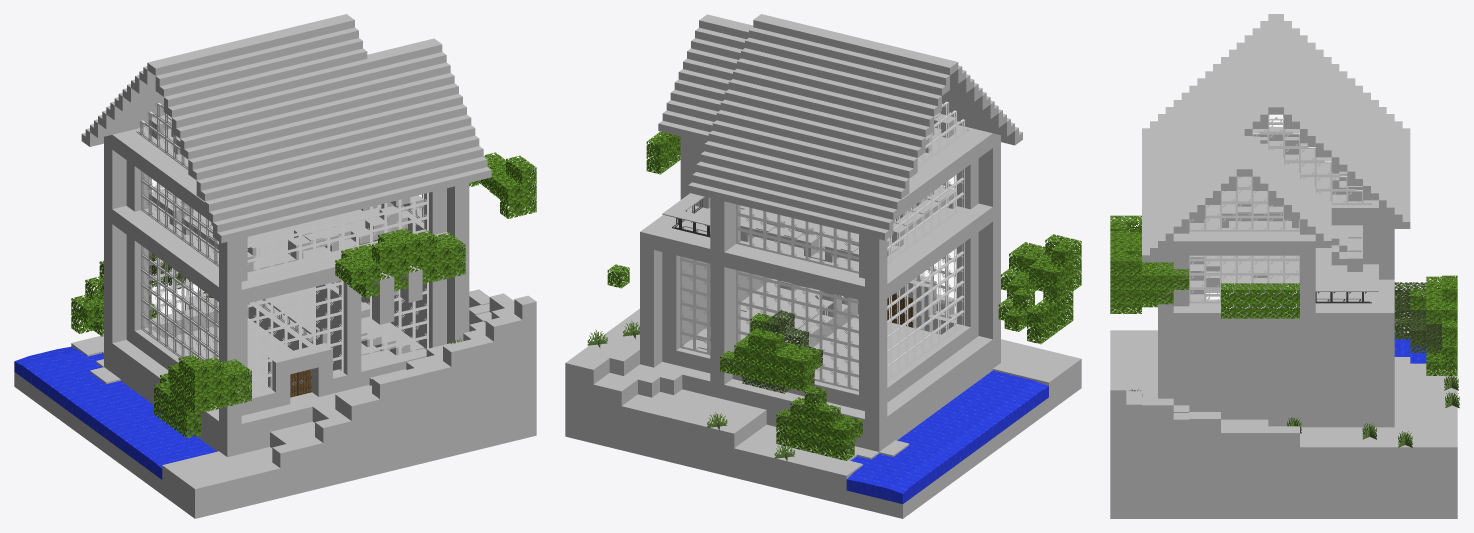
3 views of the same model, side by side, from view 1: azimuth 30°, elevation 25°; view 2: azimuth 150°, elevation 25°; view 3: azimuth 270°, elevation 25° (orthographic). The views are drawn at different scales.
Visible parts, largest first — view 1: Smooth_Quartz_Stairs, Concrete, Block_of_Quartz, Grass_Block, Stained_Glass_Pane, Dirt, Acacia_Leaves, Stone, Stationary_Water, Red_Sandstone_Slab, Oak_Leaves, Carpet (+4 smaller); view 2: Smooth_Quartz_Stairs, Block_of_Quartz, Grass_Block, Concrete, Stained_Glass_Pane, Dirt, Acacia_Leaves, Stationary_Water, Oak_Leaves, Carpet, Red_Sandstone_Slab, Spruce_Stairs (+4 smaller); view 3: Smooth_Quartz_Stairs, Concrete, Stone, Grass_Block, Block_of_Quartz, Dirt, Acacia_Leaves, Stained_Glass_Pane, Carpet, Red_Sandstone_Slab, Oak_Leaves, Smooth_Stone (+6 smaller).
Part boxes in pixels (x1,y1,x2,y2): Smooth_Quartz_Stairs: (81,27,491,243); Concrete: (126,126,446,415); Block_of_Quartz: (104,131,469,427); Grass_Block: (71,289,536,503); Stained_Glass_Pane: (136,103,428,394); Dirt: (14,311,536,518); Acacia_Leaves: (149,152,536,414); Stone: (323,346,536,487); Stationary_Water: (14,346,216,479); Red_Sandstone_Slab: (147,14,442,355); Oak_Leaves: (71,252,200,438); Carpet: (174,208,424,355); Smooth_Quartz_Stairs: (658,27,1022,240); Block_of_Quartz: (640,130,1000,422); Grass_Block: (565,275,1081,490); Concrete: (662,125,978,410); Stained_Glass_Pane: (672,101,968,391); Dirt: (565,333,1081,518); Acacia_Leaves: (607,131,1081,391); Stationary_Water: (846,370,1048,504); Oak_Leaves: (736,289,1073,460); Carpet: (662,193,927,350); Red_Sandstone_Slab: (699,14,958,291); Spruce_Stairs: (740,114,955,262); Smooth_Quartz_Stairs: (1142,21,1410,262); Concrete: (1173,141,1378,427); Stone: (1110,433,1457,518); Grass_Block: (1110,330,1457,461); Block_of_Quartz: (1158,214,1394,427); Dirt: (1110,404,1457,490); Acacia_Leaves: (1110,215,1457,345); Stained_Glass_Pane: (1189,114,1371,303); Carpet: (1206,225,1378,299); Red_Sandstone_Slab: (1190,14,1283,299); Oak_Leaves: (1394,282,1457,375); Smooth_Stone: (1222,141,1362,234).
Bounding box in the file's own units: 24.08 × 25.5 × 22.11.
